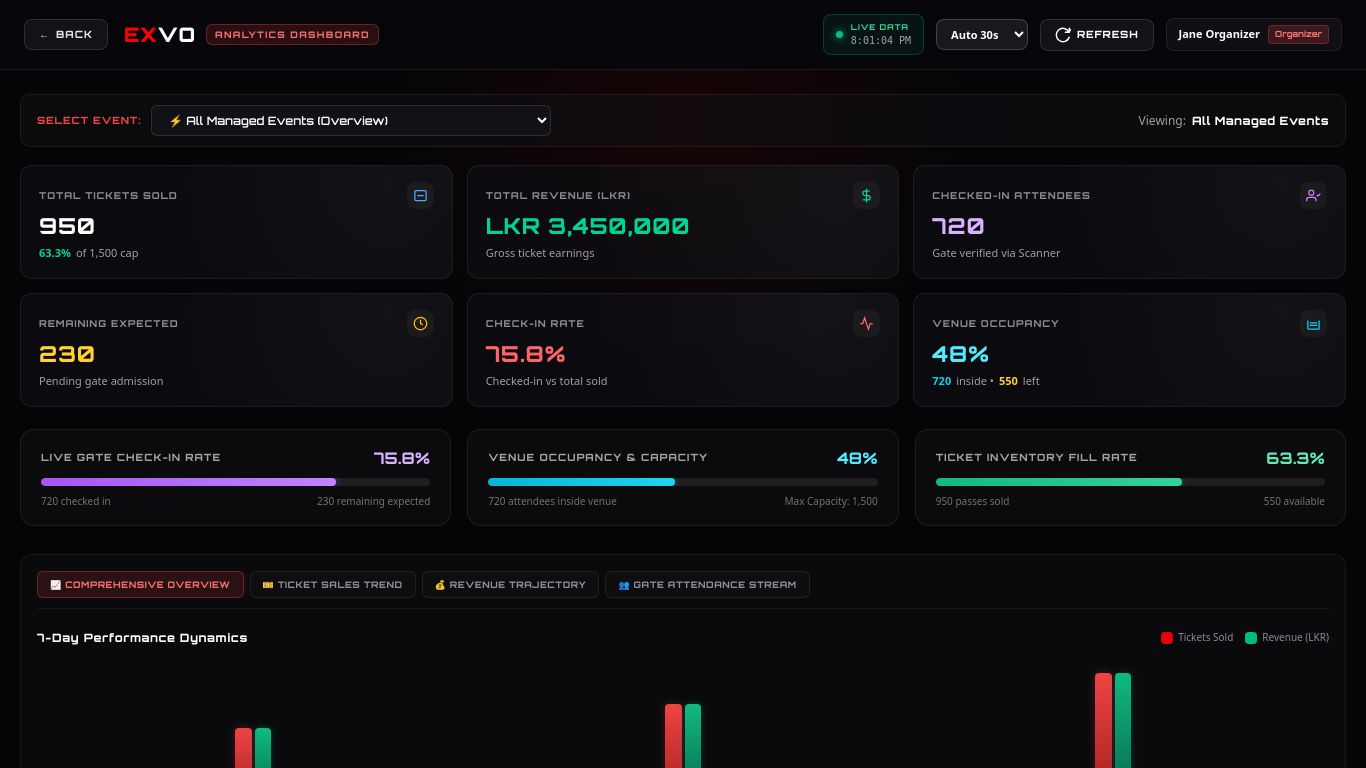
Test: EventAnalyticsDashboard (SCRUM-34) › allows switching chart tabs between Overview, Sales, Revenue, and Attendance
Expected: the text "🎫 TICKET SALES TREND" is shown, [262,579,403,590]
# Click Sales tab
What coordinates should you click on to do the following:
click the button "🎫 TICKET SALES TREND"
I would click on:
 (333, 585)
Its box is [250,571,416,598].
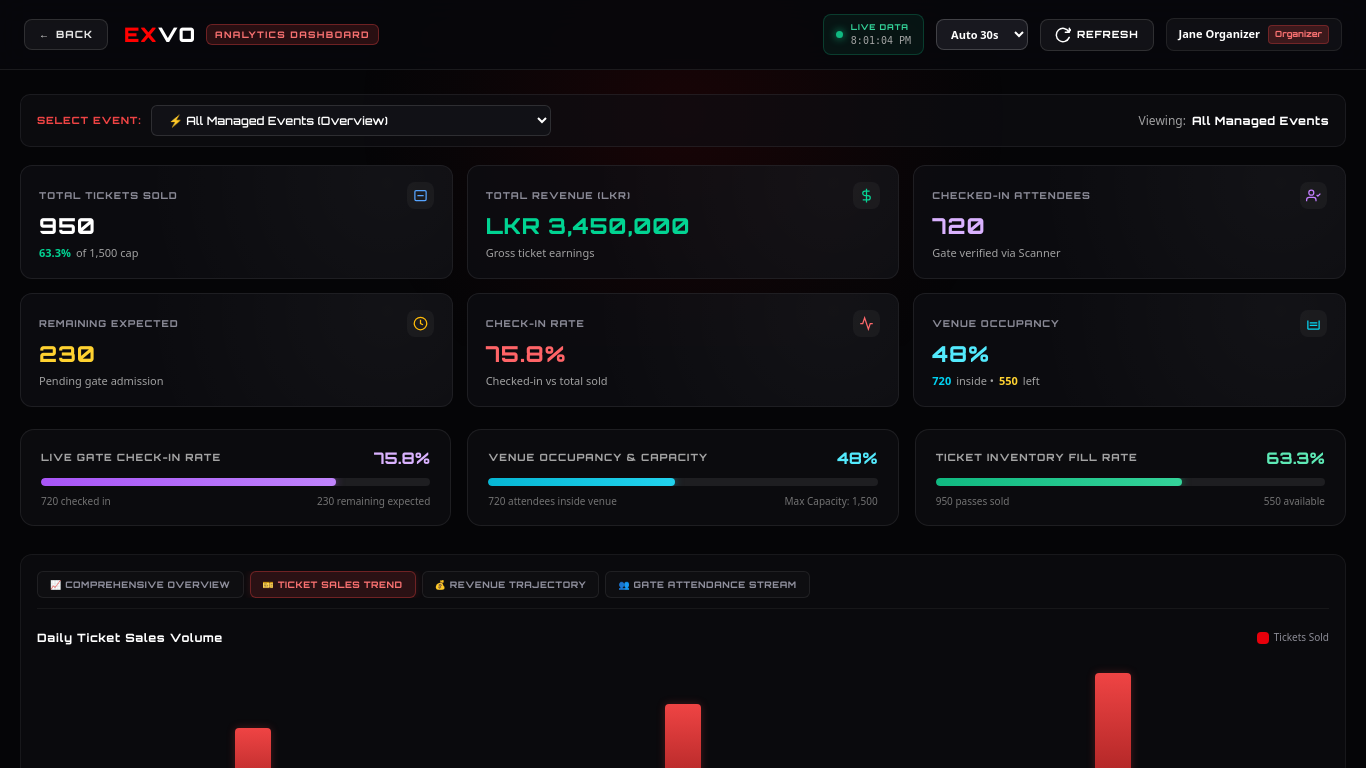
Result: the heading "Daily Ticket Sales Volume" is shown at [37,629,223,647]
# Click Revenue tab
What coordinates should you click on to do the following:
click the button "💰 REVENUE TRAJECTORY"
I would click on:
 (510, 585)
Its box is [422,571,599,598].
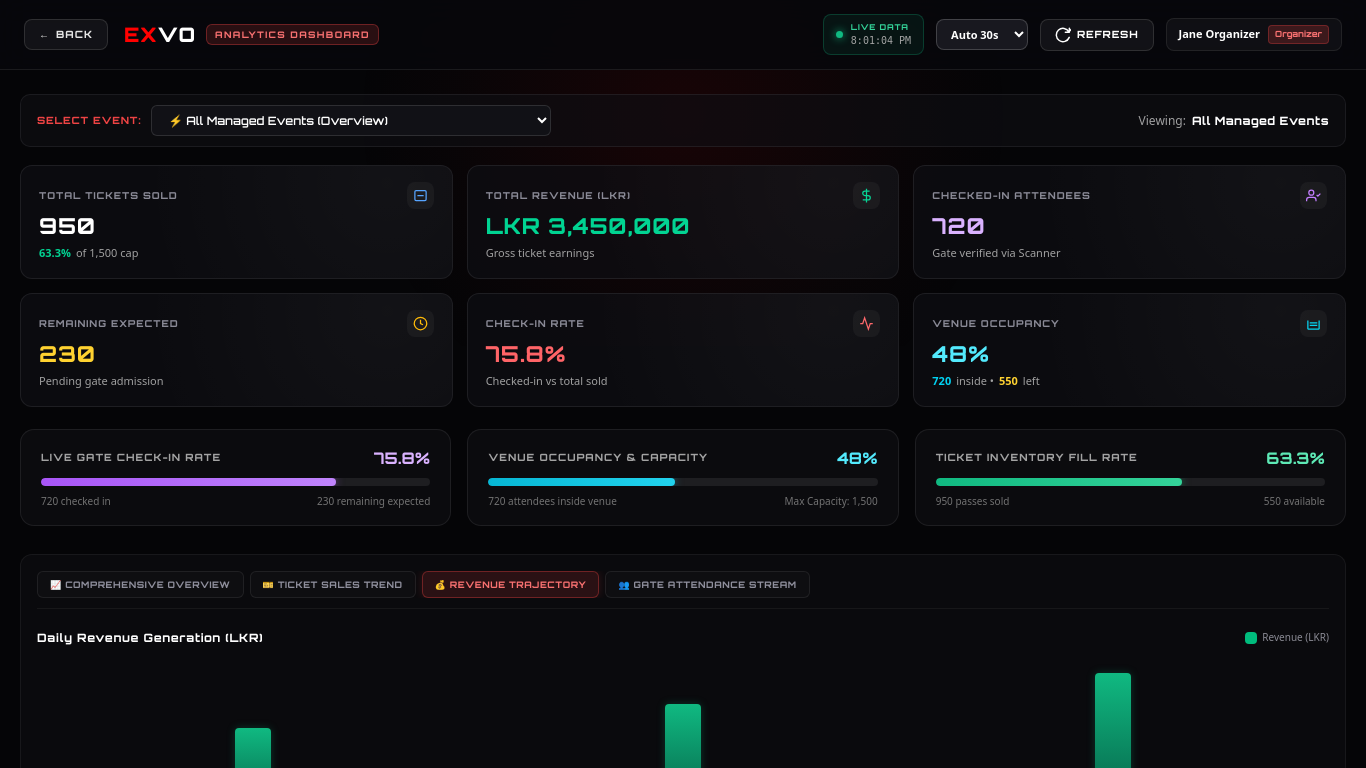
Result: the heading "Daily Revenue Generation (LKR)" is shown at [37,629,263,647]
# Click Gate Attendance stream tab
What coordinates should you click on to do the following:
click the button "👥 GATE ATTENDANCE STREAM"
I would click on:
 (708, 585)
Its box is [605,571,810,598].
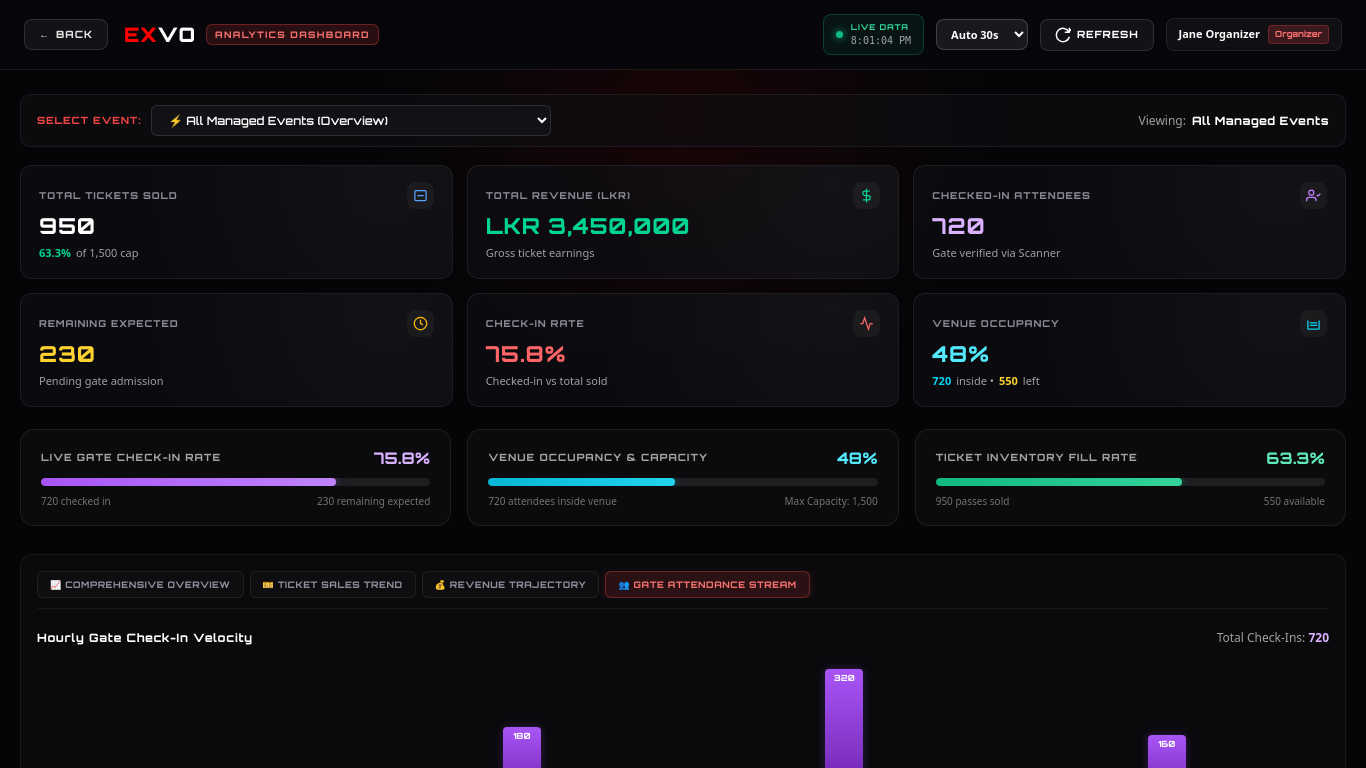
Result: the heading "Hourly Gate Check-In Velocity" is shown at [37,629,253,647]
